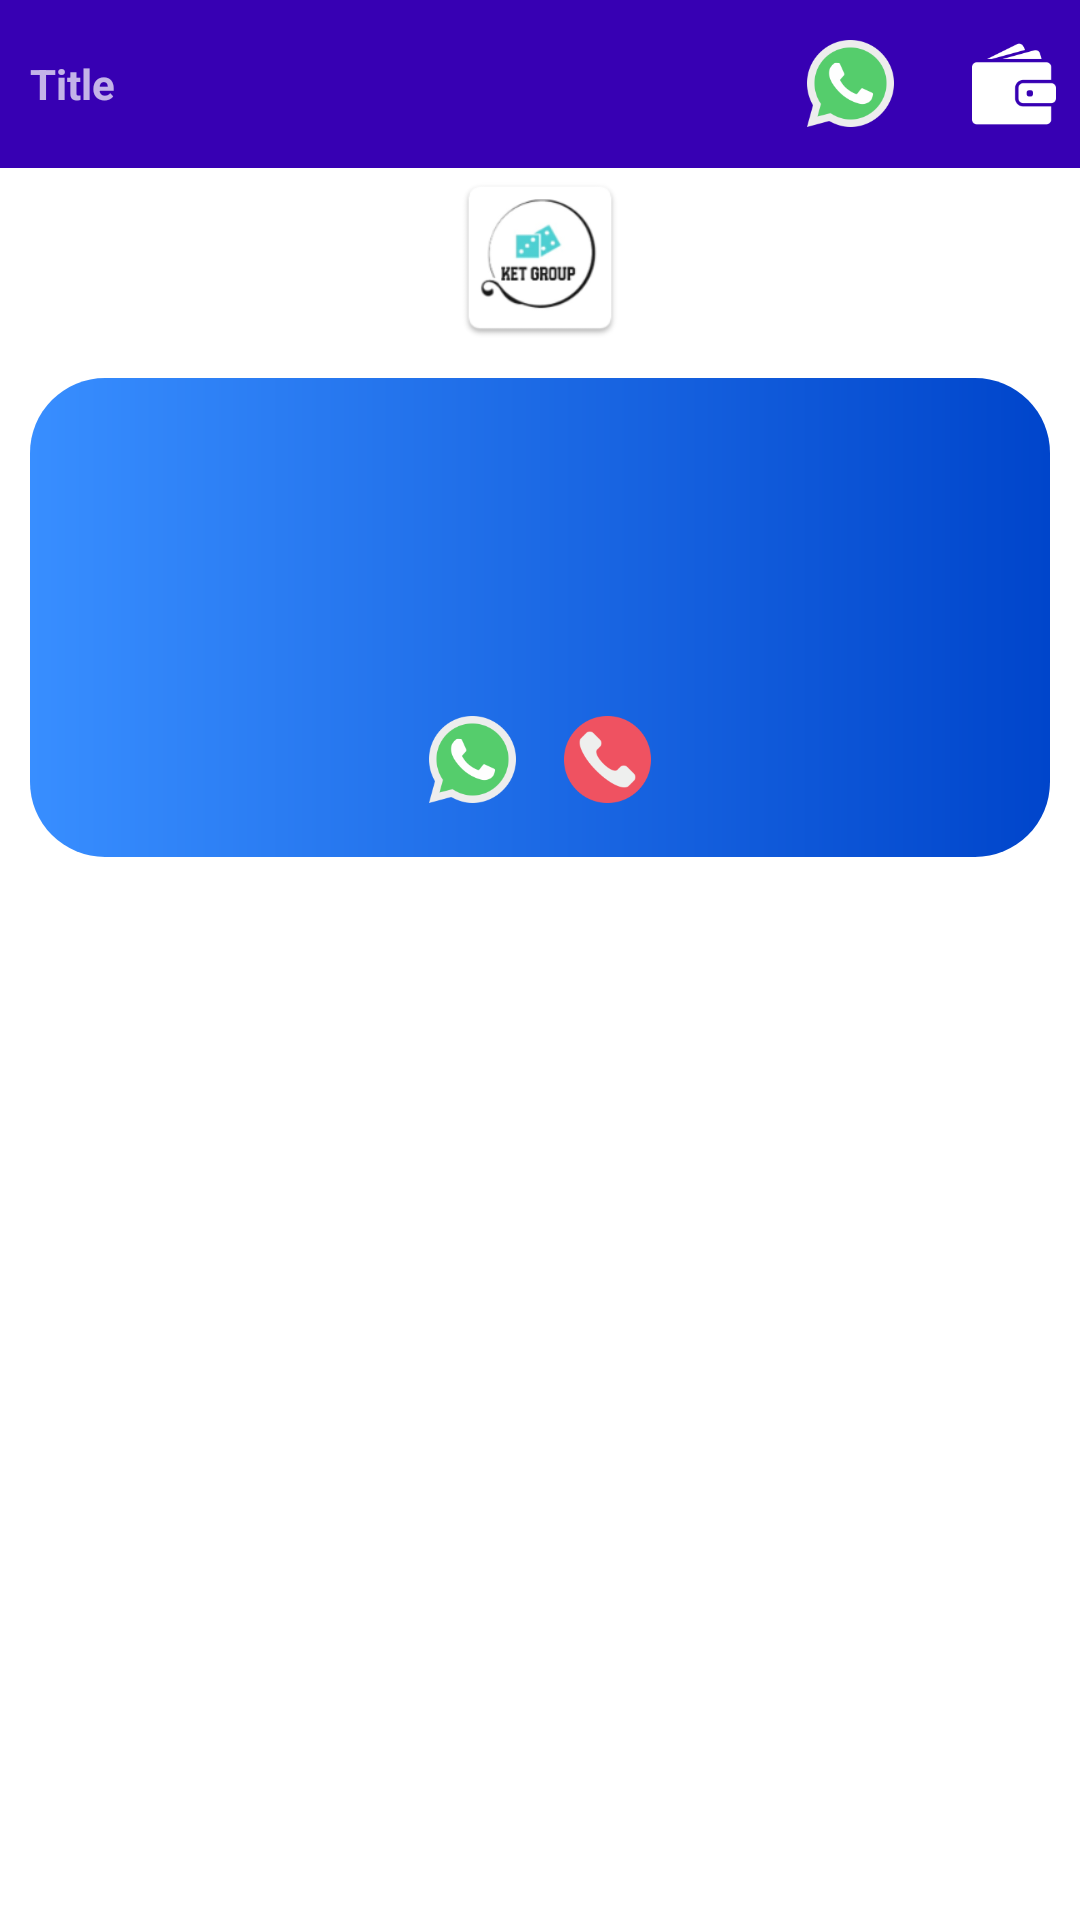

Named icons in this screenshot (1080px×1920px) and their centers, (x,y):
phone call: (607,759)
